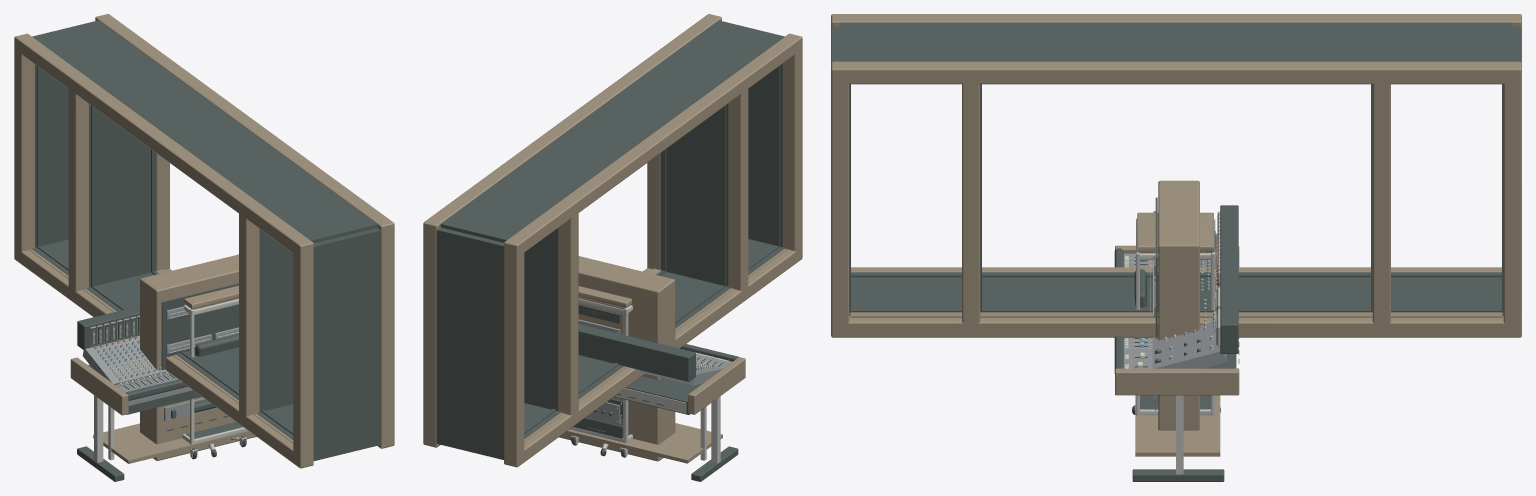
The model's file is b3-studio-props.glb.
The picture shows the model from 3 angles, left to right: view 1: azimuth 30°, elevation 25°; view 2: azimuth 150°, elevation 25°; view 3: azimuth 270°, elevation 25°; orthographic projection. The views are drawn at different scales.
Visible parts, largest first — view 1: b3_window_surround, b3_window_south_surround, b3_mixing_console, b3_patchbay, b3_outboard_rack, b3_engineer_chair; view 2: b3_window_surround, b3_window_south_surround, b3_mixing_console, b3_patchbay, b3_outboard_rack; view 3: b3_window_surround, b3_window_south_surround, b3_mixing_console, b3_patchbay, b3_outboard_rack.
Boxes of the visible parts, x1=… form: b3_window_surround: x1=14, y1=14, x2=394, y2=468; b3_window_south_surround: x1=68, y1=54, x2=326, y2=420; b3_mixing_console: x1=70, y1=306, x2=252, y2=481; b3_patchbay: x1=140, y1=254, x2=256, y2=460; b3_outboard_rack: x1=182, y1=285, x2=248, y2=459; b3_engineer_chair: x1=194, y1=334, x2=239, y2=457; b3_window_surround: x1=423, y1=14, x2=802, y2=467; b3_window_south_surround: x1=487, y1=54, x2=748, y2=426; b3_mixing_console: x1=564, y1=324, x2=745, y2=481; b3_patchbay: x1=559, y1=256, x2=675, y2=461; b3_outboard_rack: x1=570, y1=286, x2=632, y2=457; b3_window_surround: x1=831, y1=14, x2=1521, y2=337; b3_window_south_surround: x1=962, y1=14, x2=1390, y2=337; b3_mixing_console: x1=1114, y1=205, x2=1239, y2=481; b3_patchbay: x1=1150, y1=180, x2=1199, y2=430; b3_outboard_rack: x1=1136, y1=212, x2=1219, y2=415.
Bounding box in the file's own units: 2.3 × 3.2 × 5.28.
